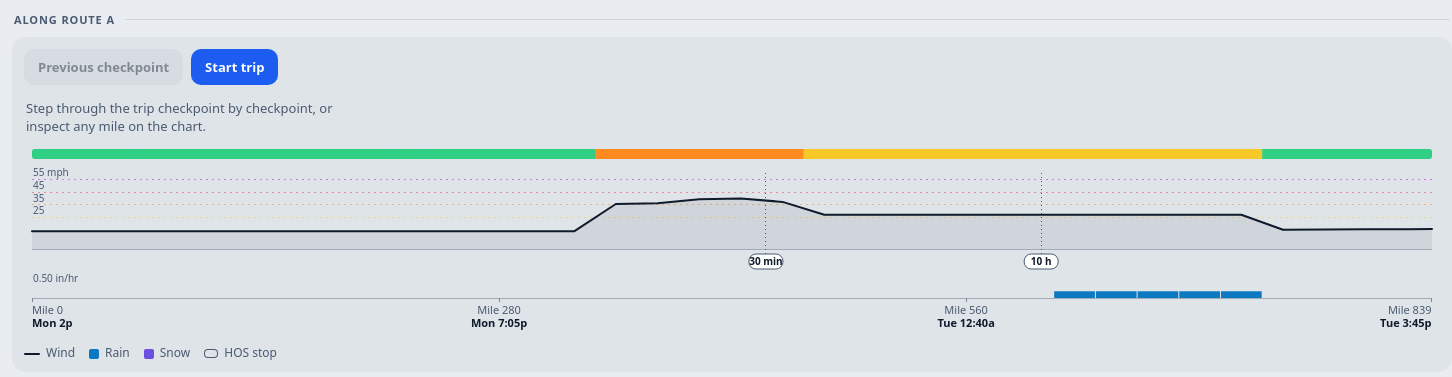
Test: TripProfile › steps through checkpoints instead of animating when motion is reduced
Later steps or results of the test are not shown.
Click the button "Start trip": (235, 67) top-left (191, 49), bottom-right (278, 85)
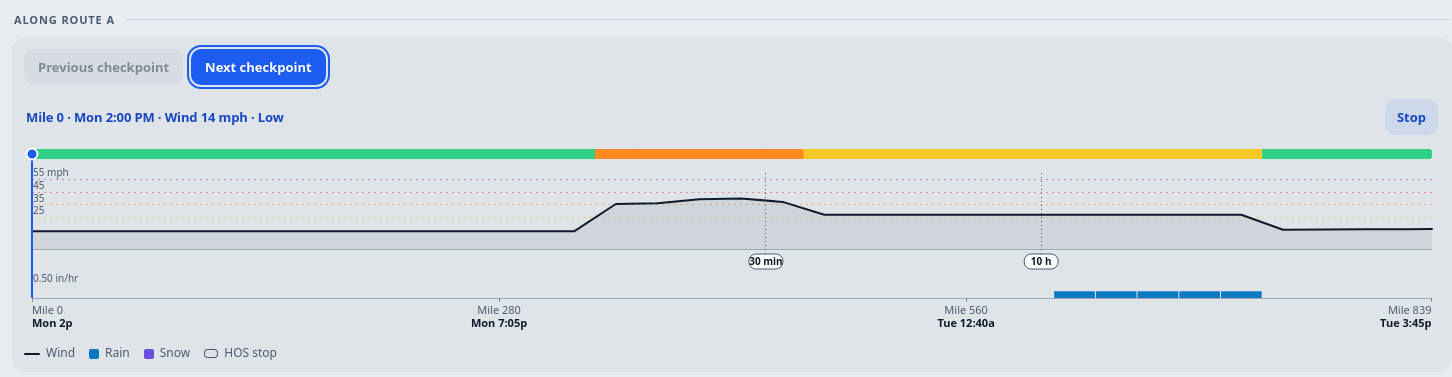
Click the button "Next checkpoint": (258, 67) top-left (191, 49), bottom-right (326, 85)
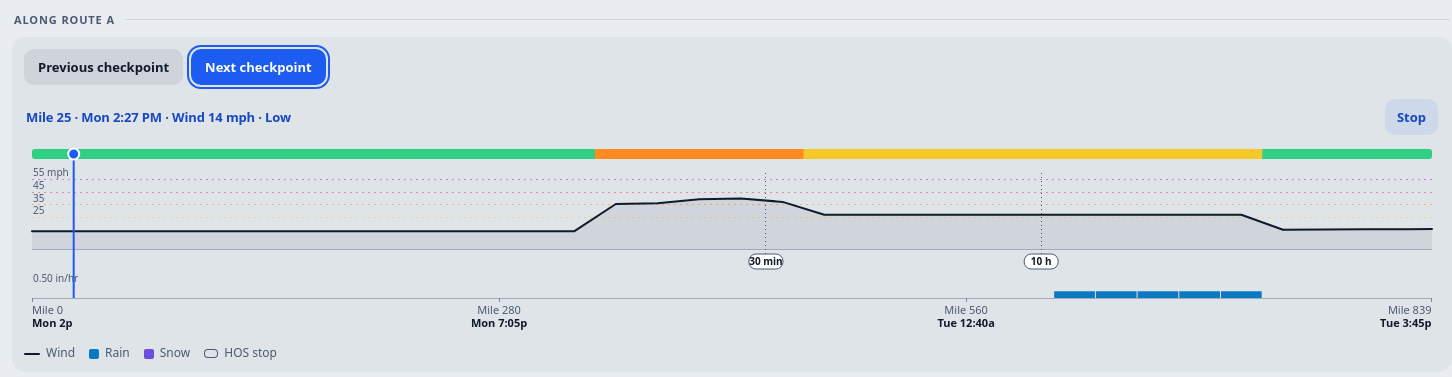
expect the element with test id "trip-readout" reads "Mile 25 · Mon 2:27 PM · Wind 14 mph · Low Stop": met, box top-left (26, 108), bottom-right (291, 126)
